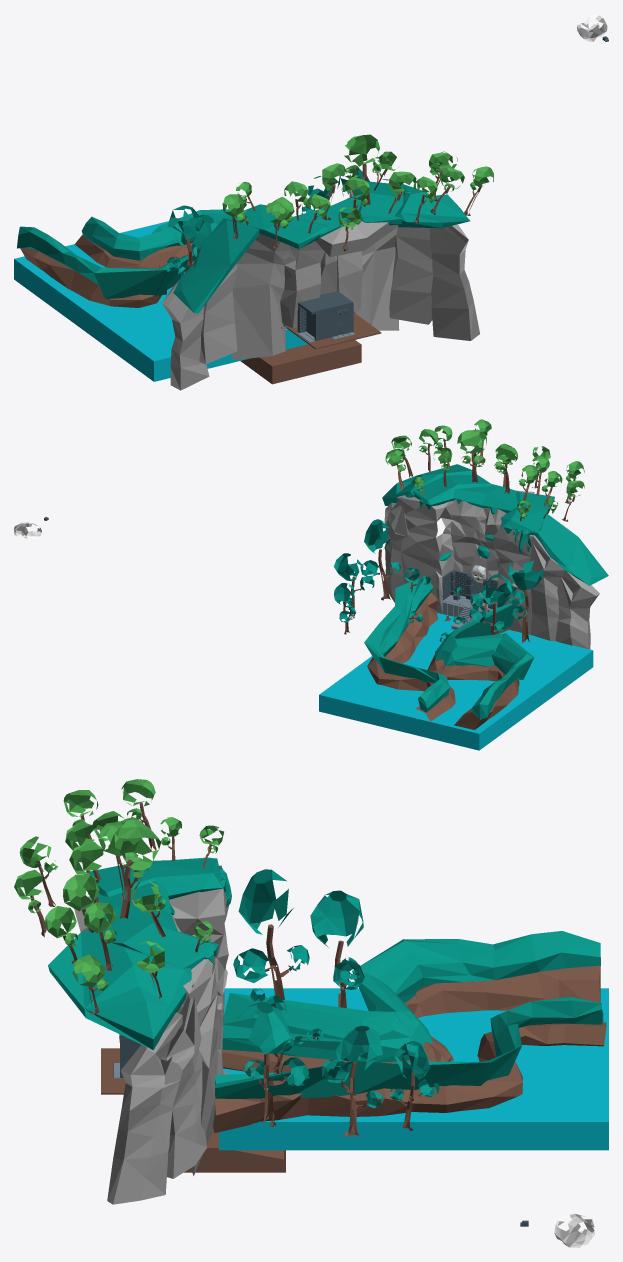
Rendered from templeentrance.glb.
The picture shows the model from 3 angles, top to bottom: view 1: azimuth 30°, elevation 25°; view 2: azimuth 150°, elevation 25°; view 3: azimuth 270°, elevation 25°; orthographic projection. The views are drawn at different scales.
Visible parts, largest first — view 1: Node; view 2: Node; view 3: Node.
Part boxes in pixels (left/top/right/bottom): Node: left=14, top=14, right=608, bottom=390; Node: left=14, top=419, right=608, bottom=750; Node: left=14, top=779, right=608, bottom=1247.
Size of the model in its own units: 9.8 by 3.88 by 6.21.
